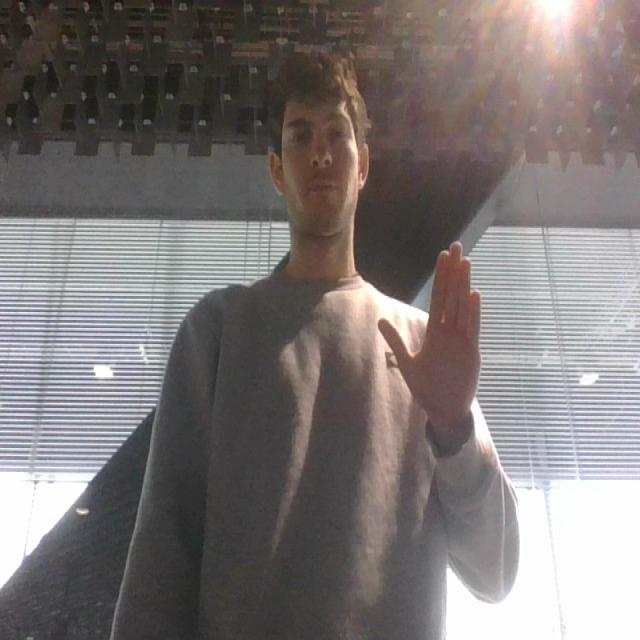backward: (374, 232, 486, 436)
